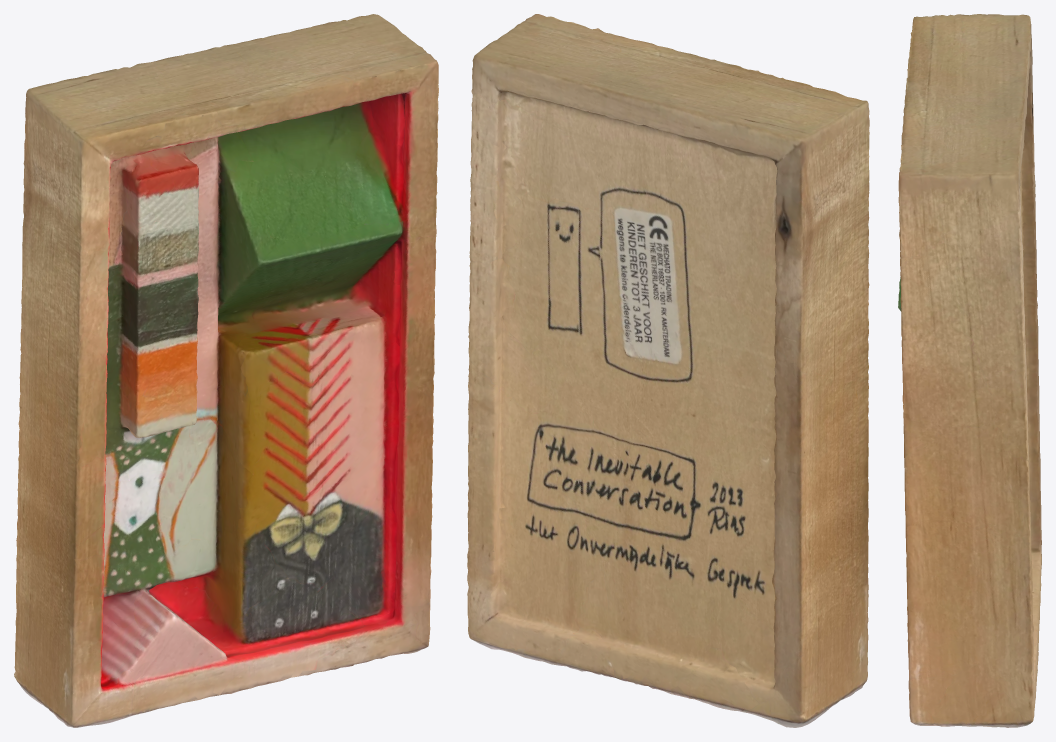
The model's file is Inevitable_conversation.glb.
3 views of the same model, side by side, from view 1: azimuth 30°, elevation 25°; view 2: azimuth 150°, elevation 25°; view 3: azimuth 270°, elevation 25° (orthographic). The views are drawn at different scales.
Visible parts, largest first — view 1: Geom; view 2: Geom; view 3: Geom.
Boxes of the visible parts, <box> form: Geom: <box>14,14,438,727</box>; Geom: <box>467,14,869,727</box>; Geom: <box>898,14,1041,727</box>.
Bounding box in the file's own units: 0.1021 × 0.1663 × 0.0383.
1 material, 1 textured.
